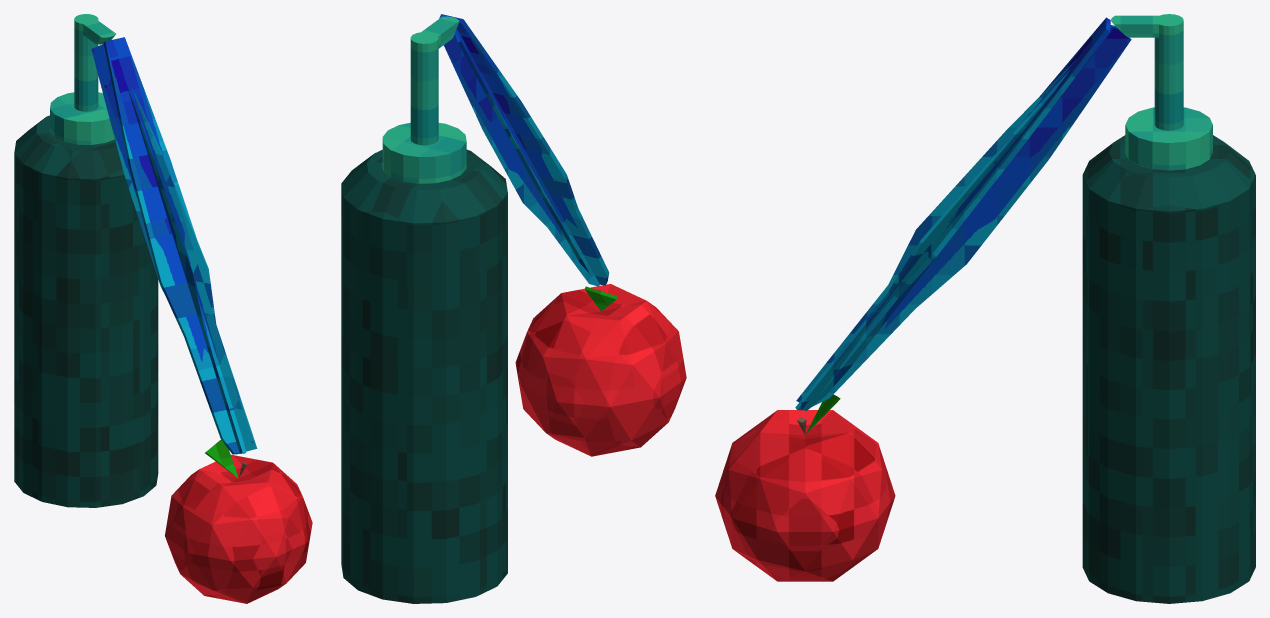
The model's file is WaterTomato.fbx.
3 views of the same model, side by side, from view 1: azimuth 30°, elevation 25°; view 2: azimuth 150°, elevation 25°; view 3: azimuth 270°, elevation 25° (orthographic). The views are drawn at different scales.
Visible parts, largest first — view 1: bottle, apple, Plane.001, Plane.002, Plane; view 2: bottle, apple, Plane.001, Plane, Plane.002; view 3: bottle, apple, Plane, Plane.002, Plane.001.
Part boxes in pixels (x1,y1,x2,y2): bottle: (14,14,158,507); apple: (165,440,312,603); Plane.001: (103,37,246,454); Plane.002: (91,44,257,451); Plane: (125,81,242,453); bottle: (341,16,507,603); apple: (515,284,686,456); Plane.001: (439,14,609,285); Plane: (443,31,599,286); Plane.002: (454,28,590,274); bottle: (1082,14,1255,603); apple: (715,394,895,581); Plane: (796,28,1131,406); Plane.002: (795,25,1122,410); Plane.001: (805,17,1110,411).
Size of the model in its own units: 76.06 by 270 by 237.
Materials: 8 (8 with a texture image).
